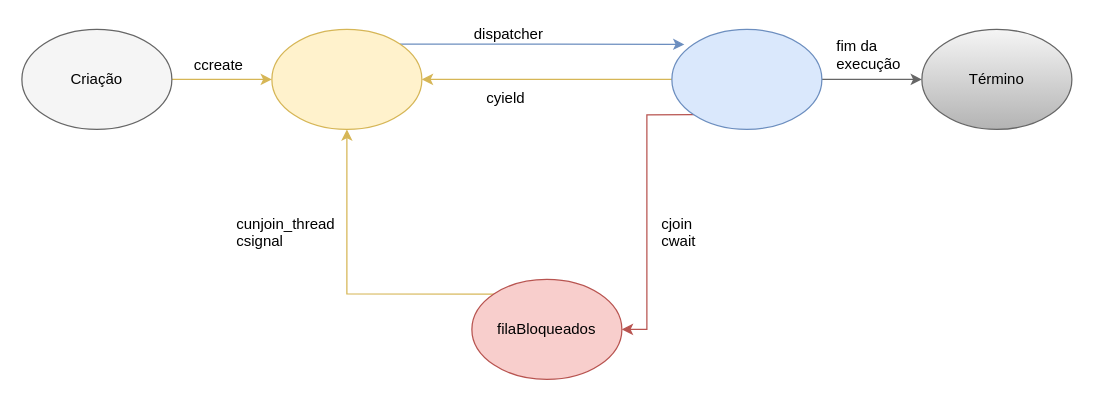
Some shapes in this 1094 by 401 pixel diagram are drawn without their labels. Here are the shapes that lost their labels. From the top down, the centre of each, then its label:
the point at 346,78: filaAptos
the point at 746,78: running_thread
